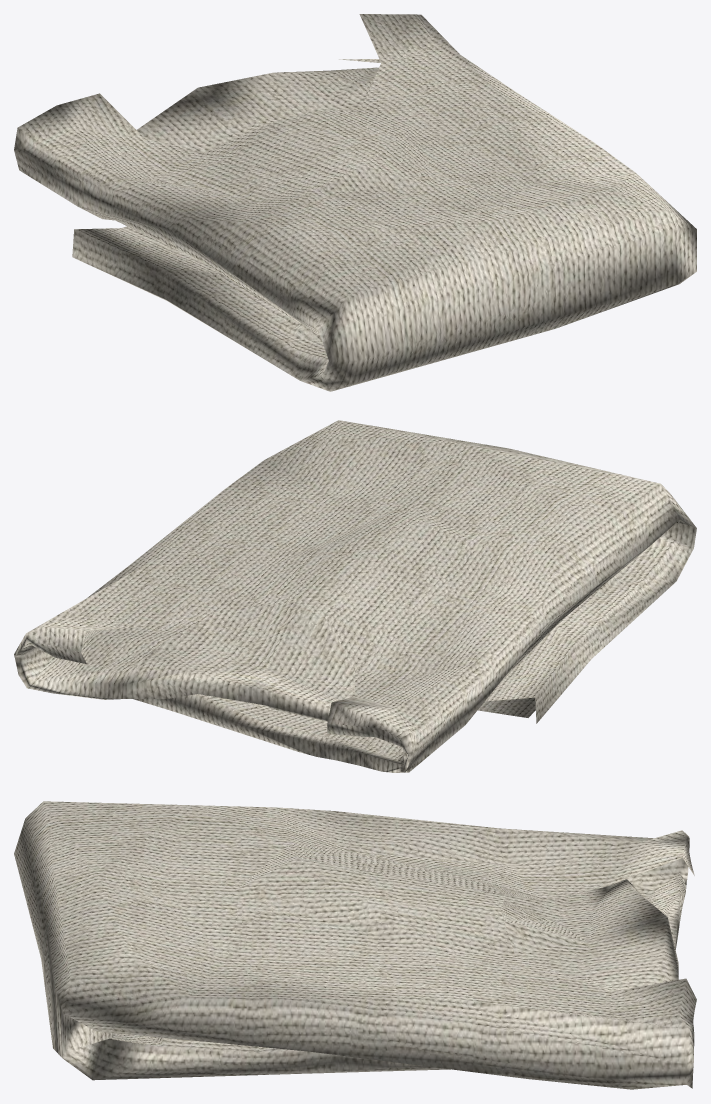
The model's file is hvfold_cloth4556.glb.
The picture shows the model from 3 angles, top to bottom: view 1: azimuth 30°, elevation 25°; view 2: azimuth 150°, elevation 25°; view 3: azimuth 270°, elevation 25°; orthographic projection. The views are drawn at different scales.
Visible parts, largest first — view 1: BP_cloth4556; view 2: BP_cloth4556; view 3: BP_cloth4556.
Boxes of the visible parts, x1,y1,x2,y2 form: BP_cloth4556: (14, 14, 696, 391); BP_cloth4556: (14, 420, 696, 772); BP_cloth4556: (14, 801, 696, 1089).
Bounding box in the file's own units: 0.2831 × 0.0635 × 0.3406.
Materials: 1 (1 with a texture image).
